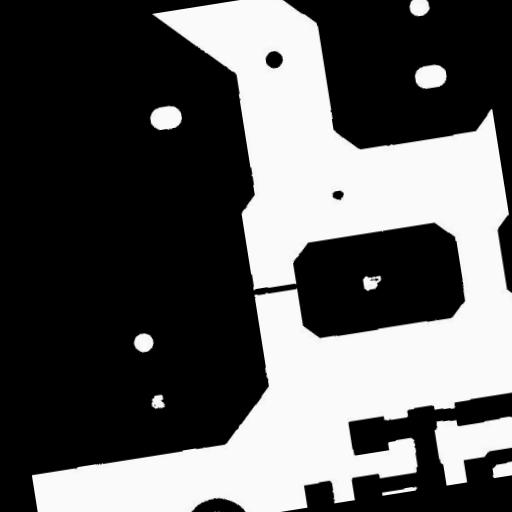copper: (255, 40, 292, 78), (322, 180, 352, 210)
pin-hole: (353, 264, 391, 298), (141, 385, 173, 418)
short: (242, 273, 306, 304), (418, 396, 470, 432)
